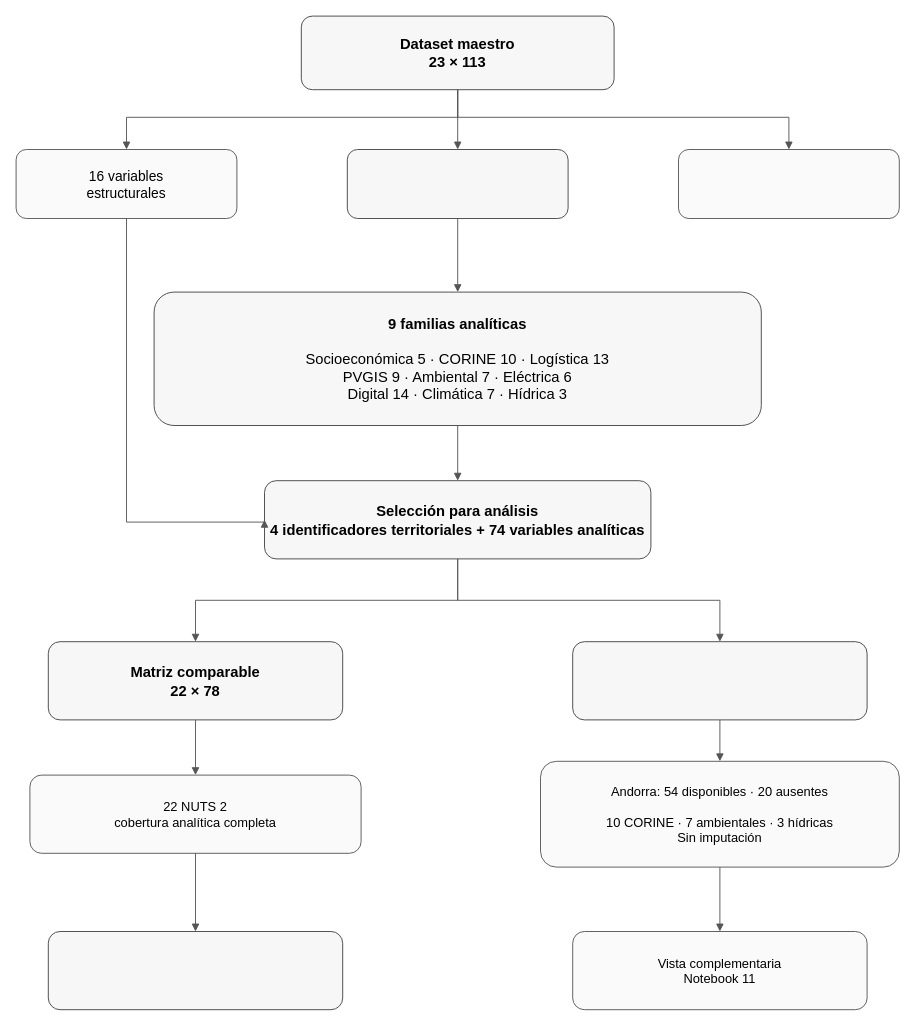
Image size: 915x1026. Some labels were removed from this diagram. Here are the shapes that lost their labels. From the top down, the centre of each, then its label:
At (457,183): "74 variables analíticas".
At (788,183): "23 variables de control".
At (719,680): "Matriz completa 23 × 78".
At (195,970): "Entrada principal del EDA Notebook 11".
